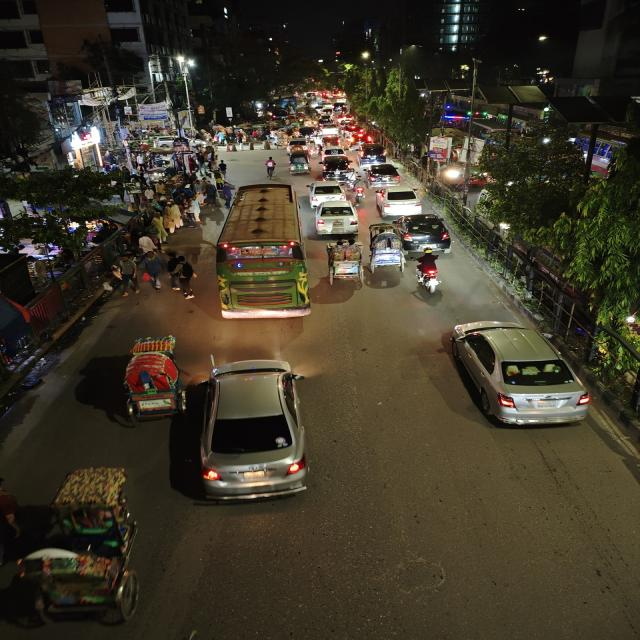bicycle: (263, 156, 278, 178)
bus: (213, 180, 310, 326)
car: (436, 314, 596, 434), (196, 352, 316, 508), (395, 212, 454, 252), (312, 200, 362, 236), (372, 185, 424, 218), (306, 180, 351, 206), (364, 163, 405, 186), (318, 156, 352, 178), (358, 145, 388, 165), (319, 145, 348, 159), (347, 134, 374, 148)
cng: (286, 150, 312, 176)
motorcycle: (412, 249, 449, 295), (351, 178, 367, 204)
pedestrian: (171, 256, 198, 302), (115, 252, 141, 298), (142, 251, 166, 291), (161, 200, 183, 234), (181, 196, 204, 227), (136, 232, 157, 256), (218, 182, 234, 208), (196, 185, 212, 209), (201, 184, 217, 206), (216, 159, 230, 178), (224, 139, 235, 153)
rickshaw: (13, 462, 150, 632), (114, 334, 184, 426), (322, 236, 367, 286), (366, 227, 408, 276), (287, 150, 312, 176)
